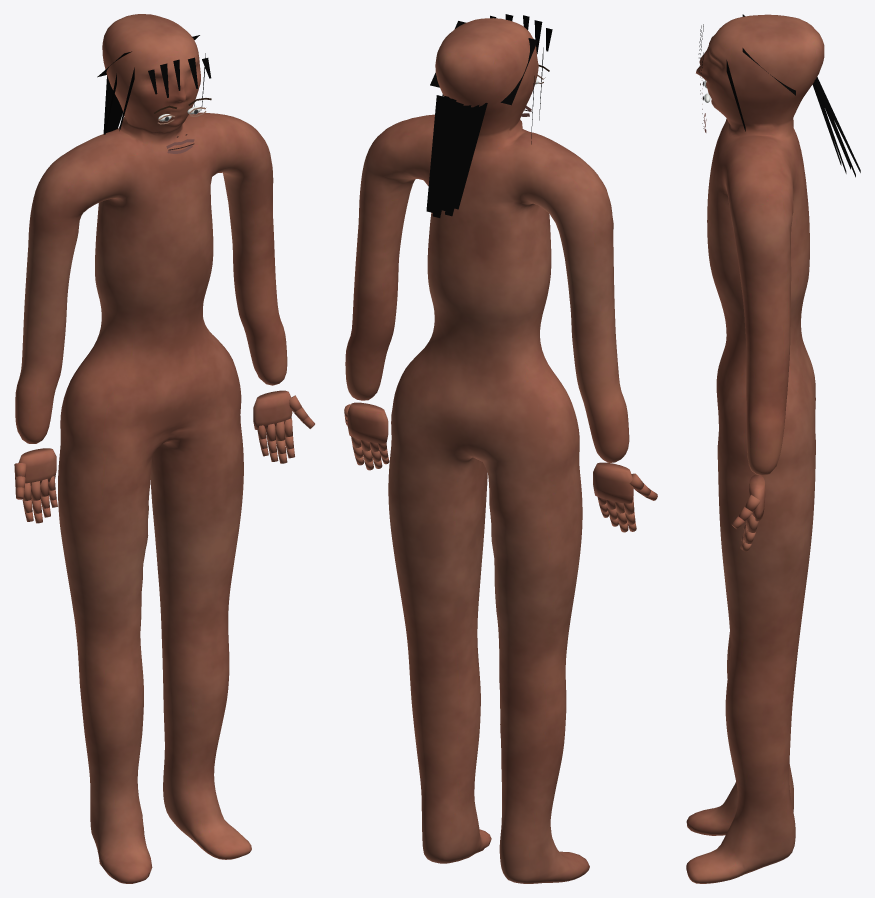
File: heroi_julia_pbr.glb
3 views of the same model, side by side, from view 1: azimuth 30°, elevation 25°; view 2: azimuth 150°, elevation 25°; view 3: azimuth 270°, elevation 25° (orthographic). The views are drawn at different scales.
Visible parts, largest first — view 1: JuliaBase; view 2: JuliaBase, rabo_mecha_5, rabo_mecha_4, rabo_mecha_2, rabo_mecha_3, rabo_mecha_1; view 3: JuliaBase.
Part boxes in pixels (box(x1,y1,x2,y2)): JuliaBase: box(14, 14, 314, 883); JuliaBase: box(344, 18, 657, 883); rabo_mecha_5: box(426, 95, 456, 212); rabo_mecha_4: box(432, 96, 463, 217); rabo_mecha_2: box(445, 105, 479, 216); rabo_mecha_3: box(442, 105, 471, 211); rabo_mecha_1: box(454, 103, 487, 209); JuliaBase: box(686, 14, 824, 883).
Bounding box in the file's own units: 0.6556 × 1.72 × 0.3263.
11 materials, 3 textured.
